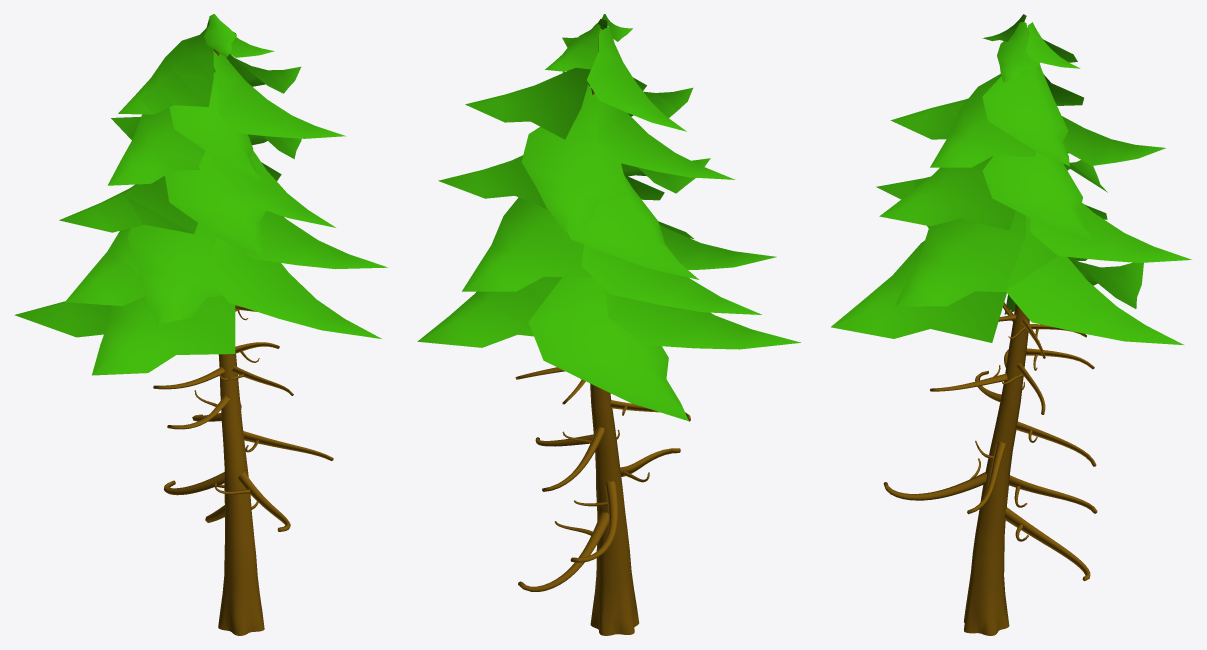
File: pohon pinus 3 .glb
3 renders of one model, left to right at view 1: azimuth 30°, elevation 25°; view 2: azimuth 150°, elevation 25°; view 3: azimuth 270°, elevation 25°, orthographic. The views are drawn at different scales.
Parts seen in each view (by area): view 1: Pine_3; view 2: Pine_3; view 3: Pine_3.
Boxes of the visible parts, box(x1,y1,x2,y2) form: Pine_3: box(14, 14, 387, 635); Pine_3: box(417, 14, 800, 635); Pine_3: box(831, 14, 1191, 635).
Size of the model in its own units: 3.61 by 7.39 by 4.
